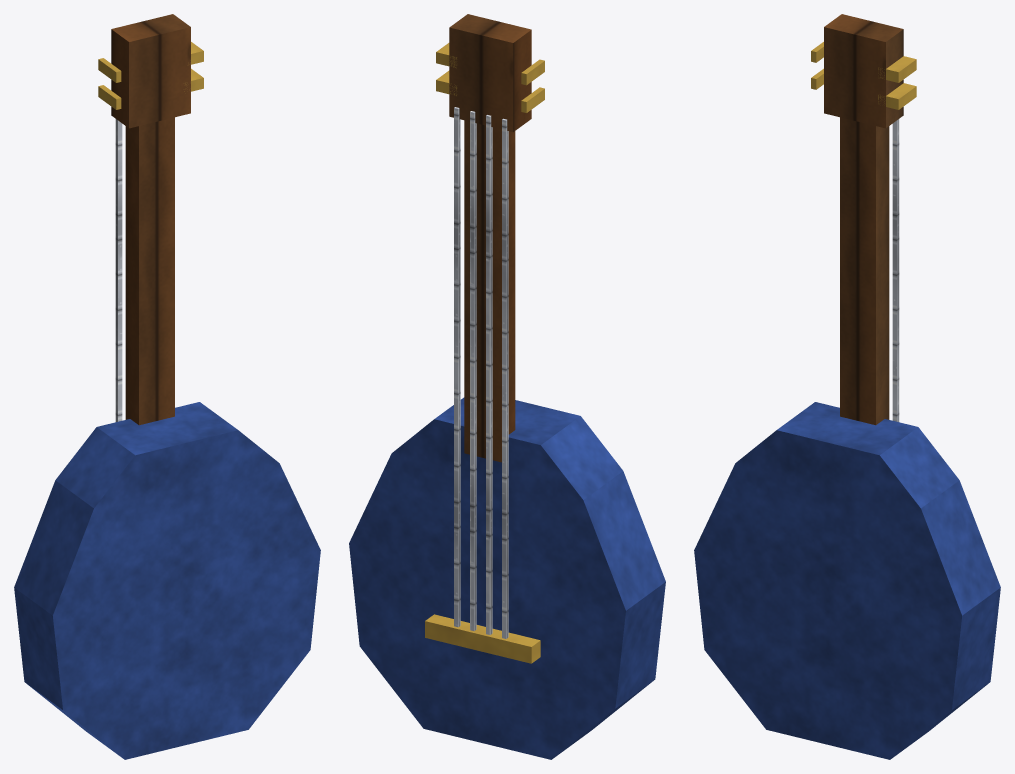
File: bard_lute.glb
3 views of the same model, side by side, from view 1: azimuth 30°, elevation 25°; view 2: azimuth 150°, elevation 25°; view 3: azimuth 330°, elevation 25° (orthographic). The views are drawn at different scales.
Parts seen in each view (by area): view 1: bard_lute; view 2: bard_lute; view 3: bard_lute.
Boxes of the visible parts, bbox=[...] form: bard_lute: bbox=[14, 14, 320, 759]; bard_lute: bbox=[349, 14, 665, 759]; bard_lute: bbox=[694, 14, 1000, 759].
Size of the model in its own units: 0.52 by 1.28 by 0.16.
4 materials, 4 textured.
